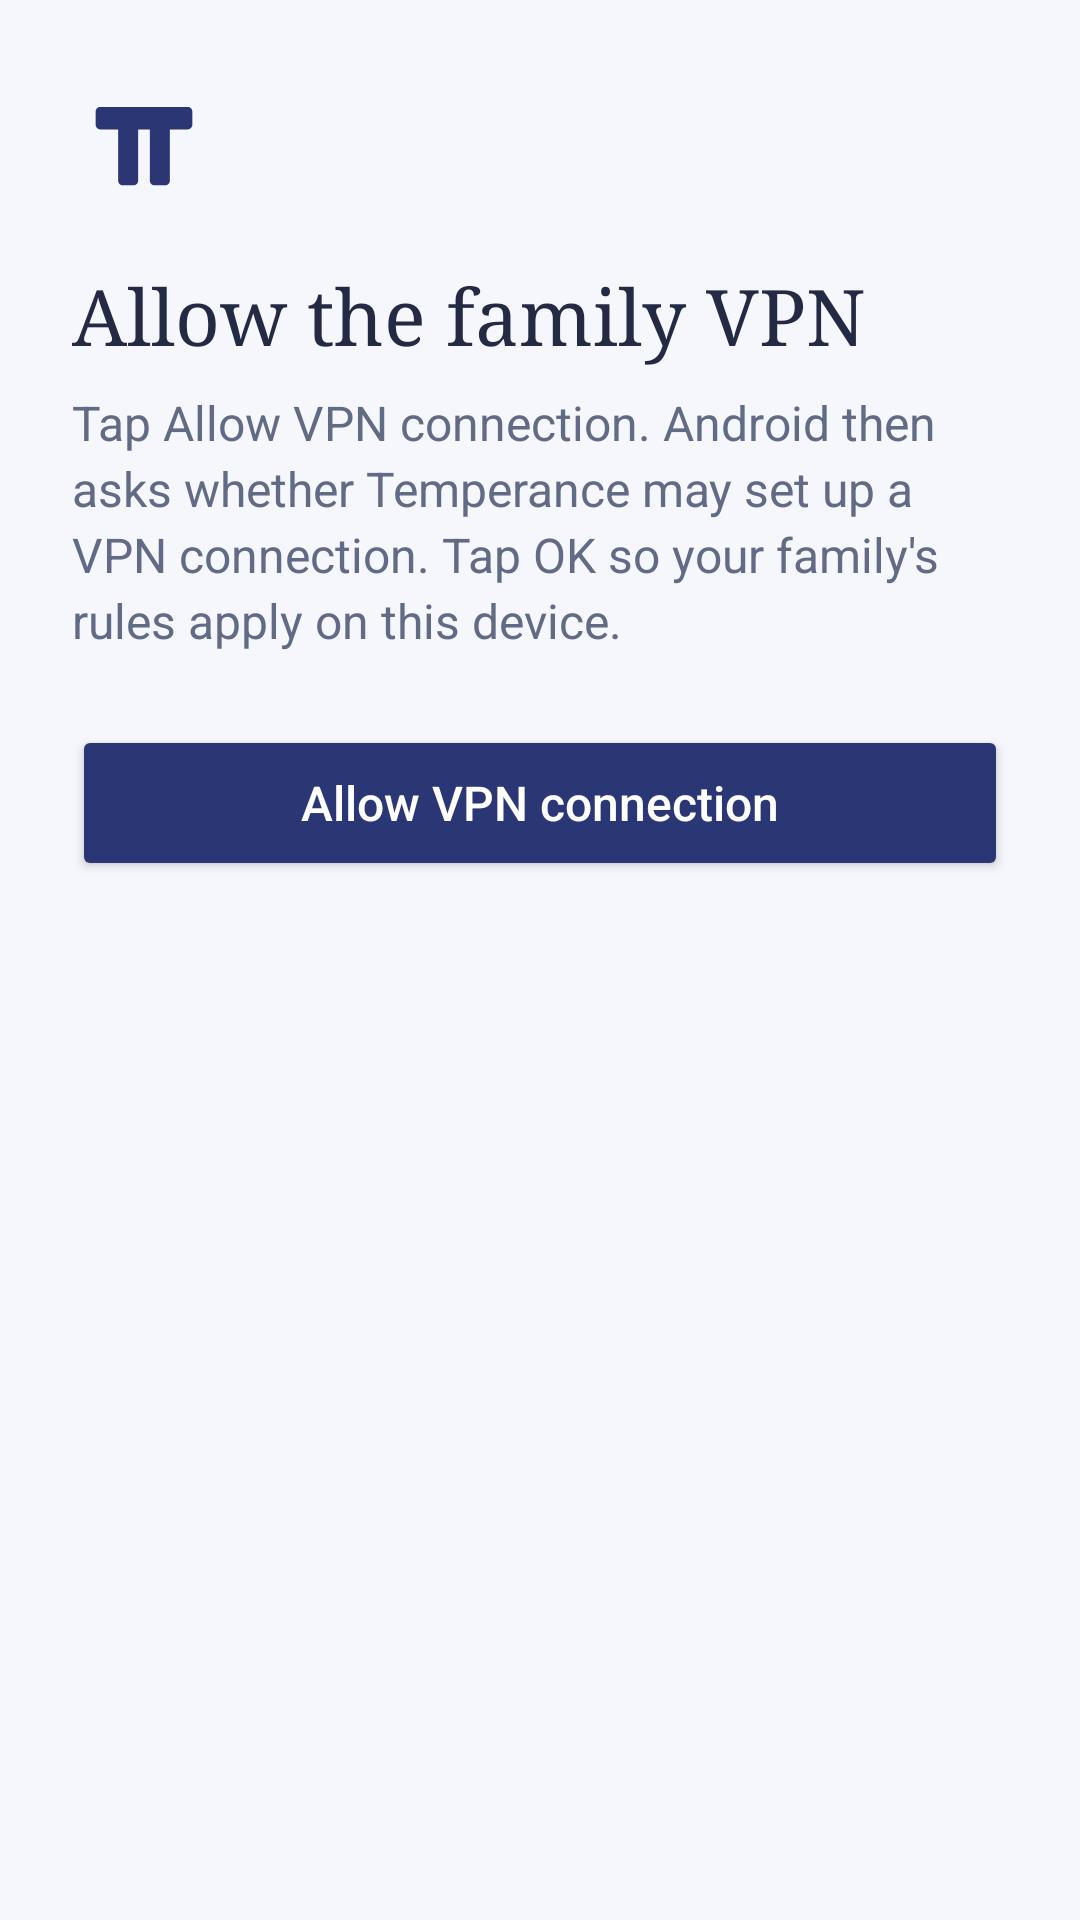

Icon click points for this 1080w x 1920h phone screenshot, format (x=x, y=y):
brand mark: (x=144, y=146)
